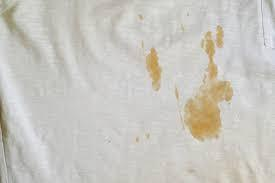coffee: (185, 99, 225, 142), (198, 75, 235, 100), (143, 47, 162, 90), (204, 30, 217, 76), (215, 23, 226, 47)
